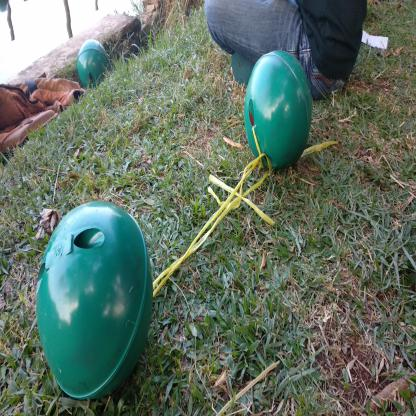green_buoy: (35, 197, 158, 404), (246, 51, 312, 175), (77, 38, 110, 92)
